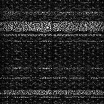lte: (1, 21, 104, 31), (1, 90, 104, 95)
